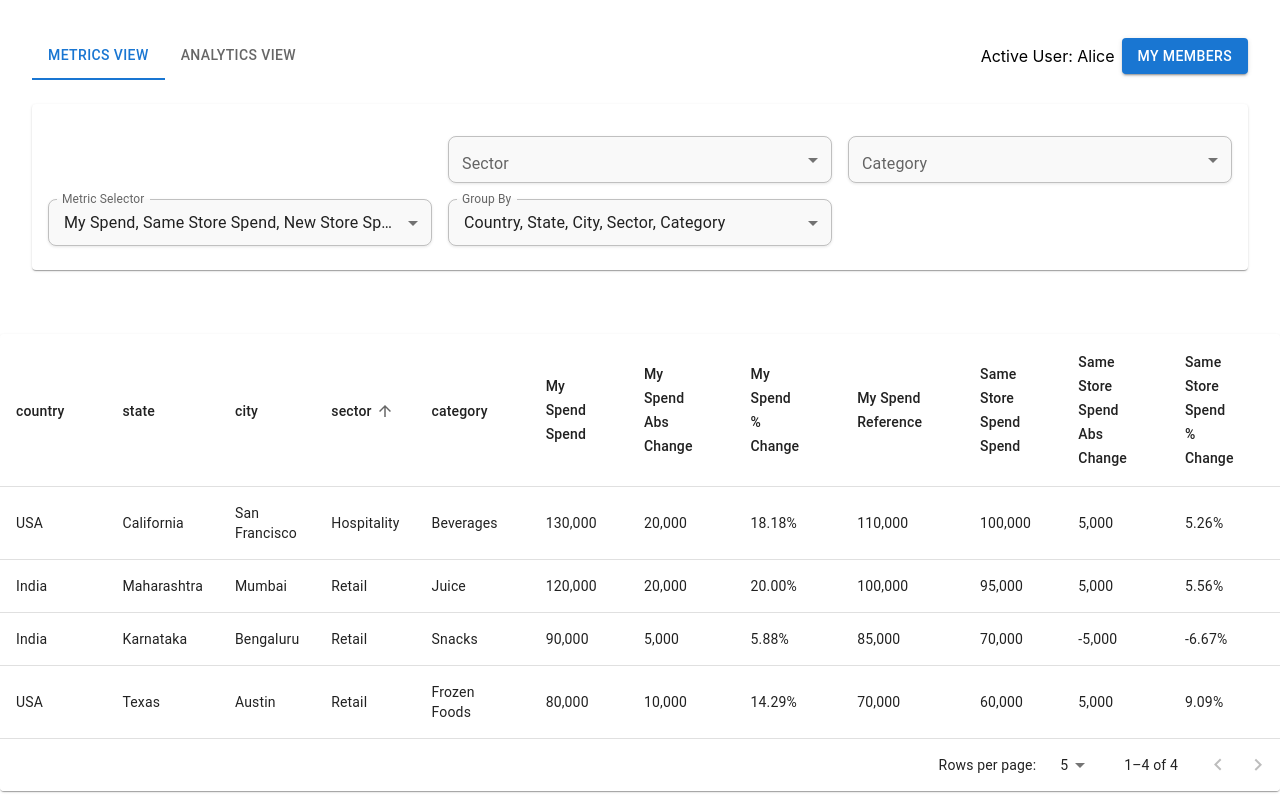
Test: Dashboard Component › can open and select user from user dialog
This screenshot has width=1280, height=800.
Click the button "My Members": [1185, 56] box [1122, 38, 1248, 74]
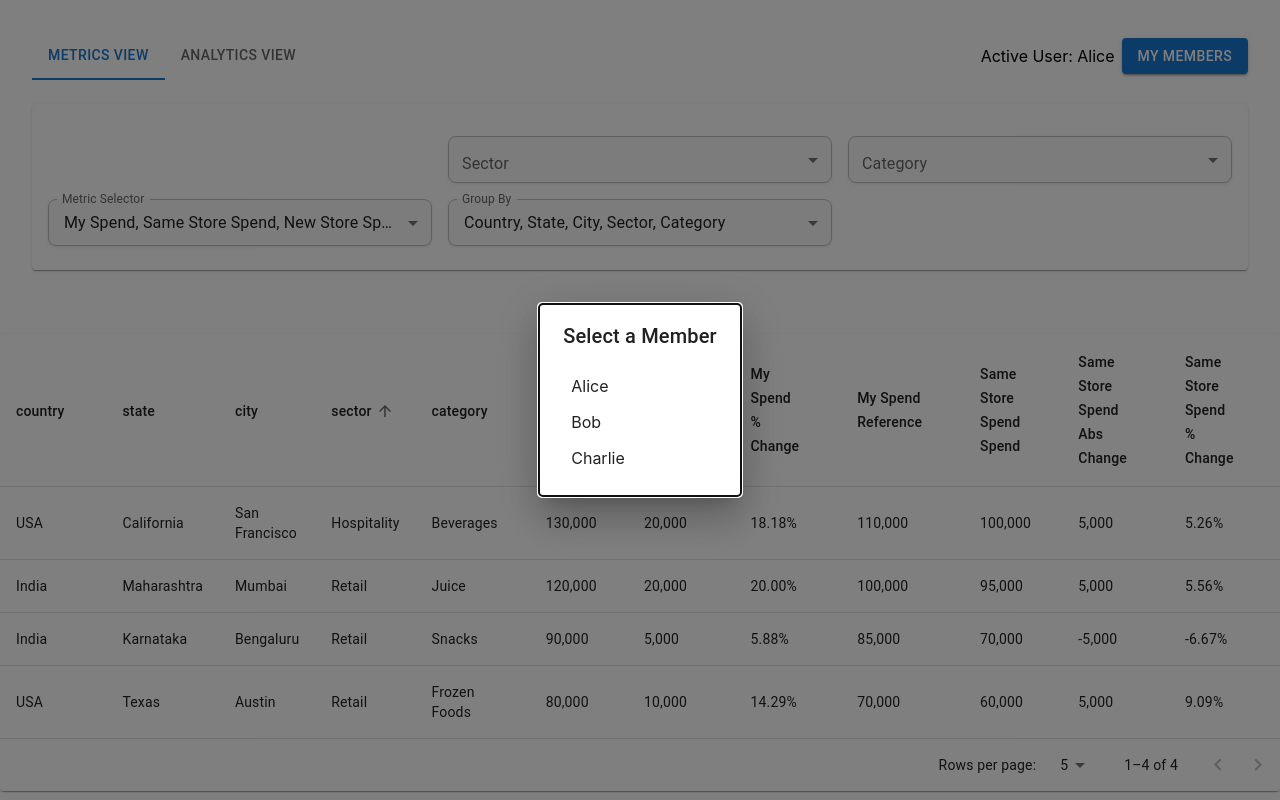
Result: the text "Bob" is shown
Click the text "Bob": [586, 422] box [571, 412, 601, 432]
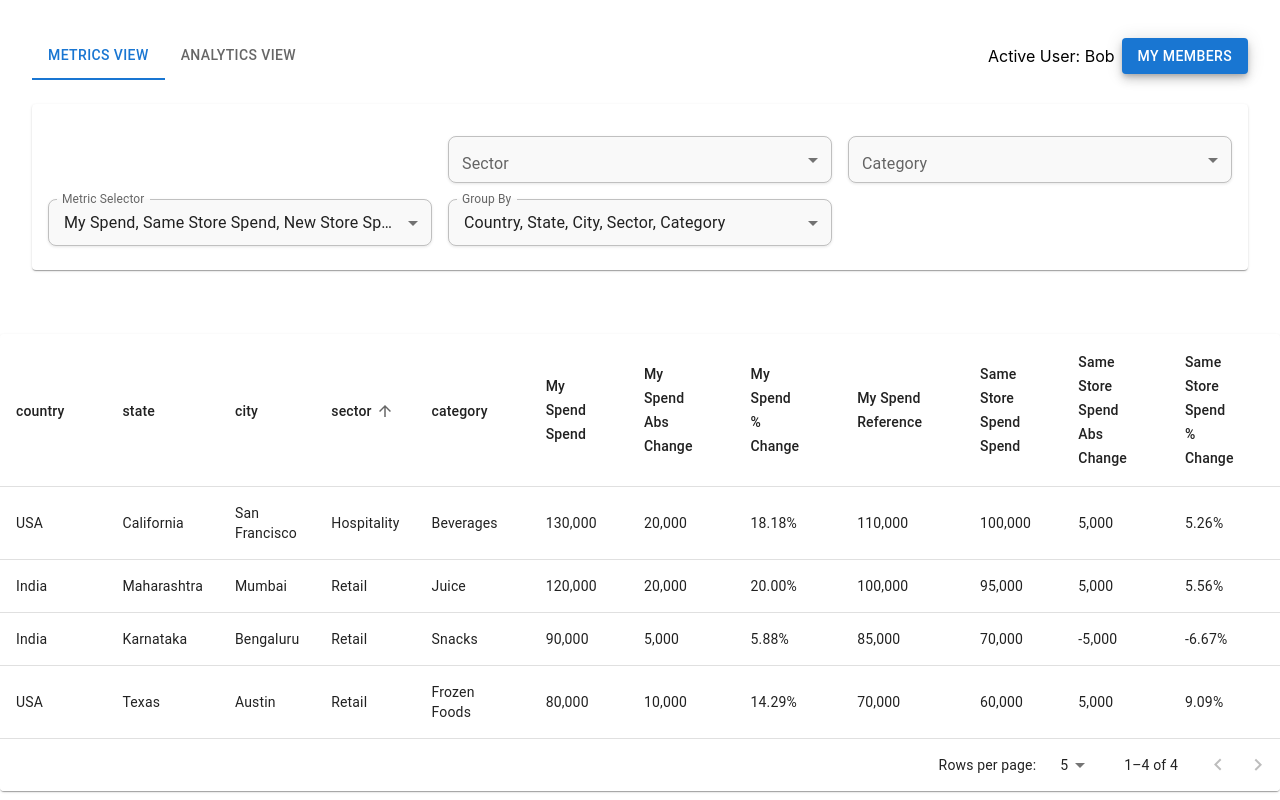
Result: the dialog is gone
